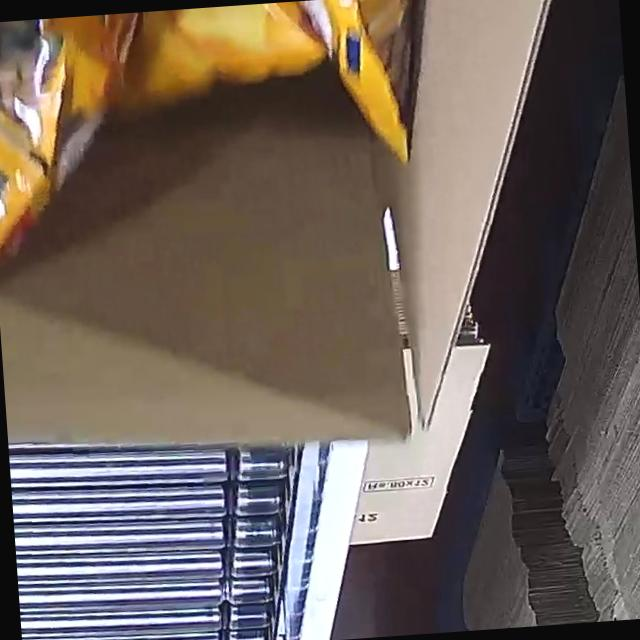cheese: (0, 0, 465, 230)
